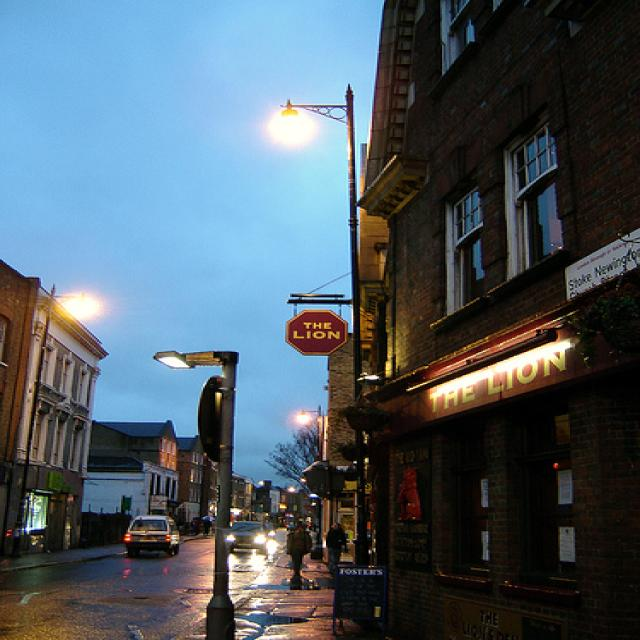Vehicle: (123, 513, 182, 559), (227, 522, 267, 554), (263, 522, 276, 540)
